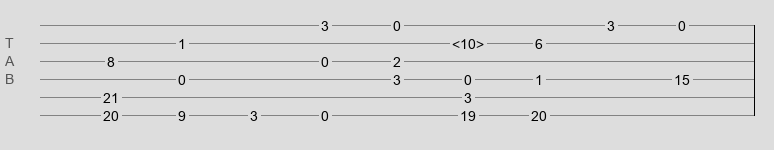0: (178, 72, 186, 82), (321, 108, 329, 118), (321, 54, 329, 64), (393, 18, 401, 28), (464, 72, 472, 82), (678, 18, 686, 28)
1: (178, 36, 186, 46), (535, 72, 543, 82)
15: (674, 72, 690, 82)
19: (460, 108, 476, 118)
2: (393, 54, 401, 64)
20: (103, 108, 119, 118), (531, 108, 547, 118)
21: (103, 90, 119, 100)
3: (250, 108, 258, 118), (321, 18, 329, 28), (393, 72, 401, 82), (464, 90, 472, 100), (607, 18, 615, 28)
6: (535, 36, 543, 46)
8: (107, 54, 115, 64)
9: (178, 108, 186, 118)
harmonic: (452, 36, 484, 46)
